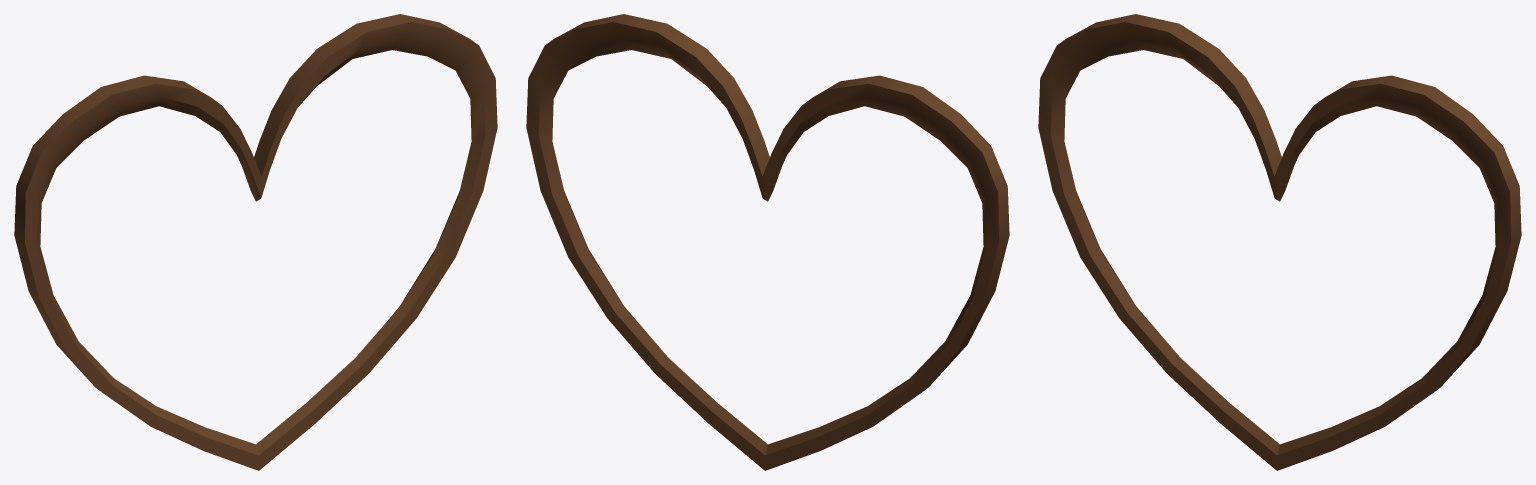
Rendered from cc0-heart-outline-lod0.glb.
3 views of the same model, side by side, from view 1: azimuth 30°, elevation 25°; view 2: azimuth 150°, elevation 25°; view 3: azimuth 330°, elevation 25° (orthographic).
Visible parts, largest first — view 1: part_0; view 2: part_0; view 3: part_0.
Boxes of the visible parts, x1,y1,x2,y2 form: part_0: [14, 14, 497, 470]; part_0: [526, 14, 1009, 470]; part_0: [1038, 14, 1521, 470].
Size of the model in its own units: 1.48 by 1.24 by 0.0607.
